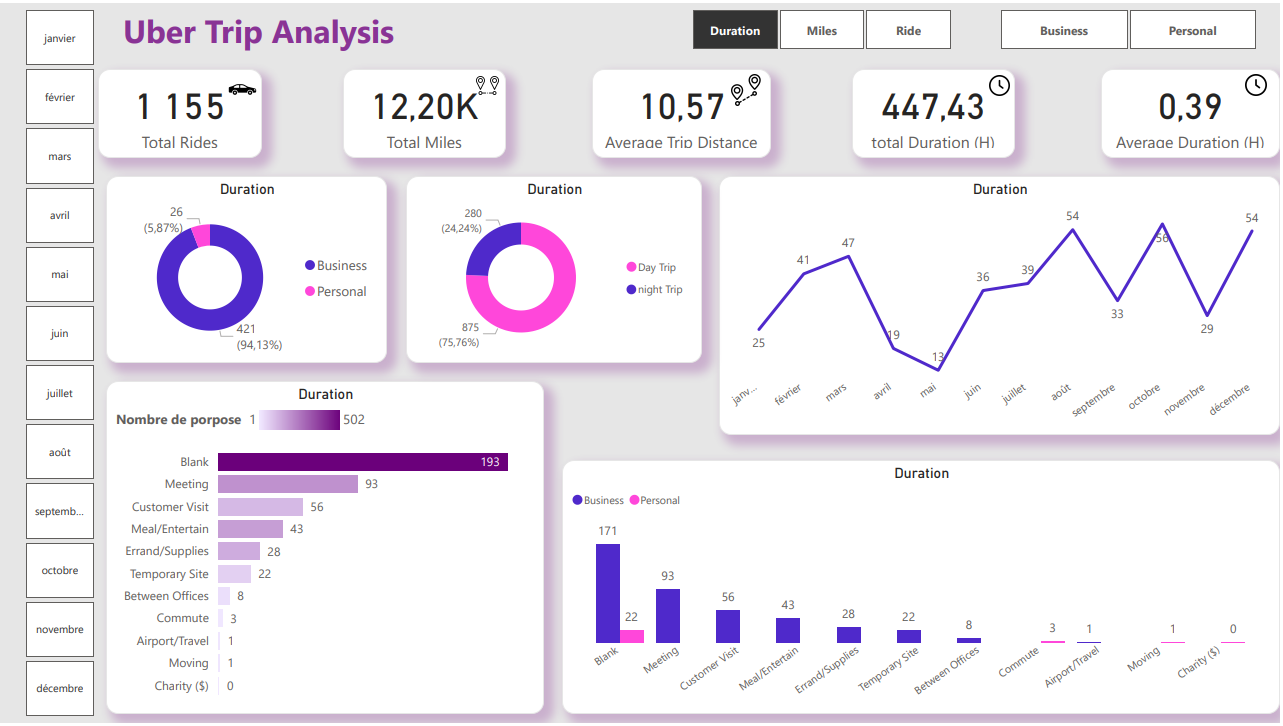

Layout of this report page (visuals, bound fields, positions):
{"tool":"powerbi","page":{"name":"Page 2","canvas":[1280,720],"ordinal":0},"visuals":[{"type":"textbox","box":[117.9,0,325.4,53.2],"z":0},{"type":"card","fields":{"Values":["UberDataset.Total rides"]},"box":[98.4,65.6,163.2,89.6],"z":1000},{"type":"slicer","fields":{"Values":["UberDataset.START_DATE.Variation.Hiérarchie de dates.Mois"]},"box":[0,0,117.7,720],"z":3000},{"type":"slicer","fields":{"Values":["UberDataset.CATEGORY"]},"box":[975.4,0,305,53.2],"z":4000},{"type":"card","fields":{"Values":["UberDataset.Total miles"]},"box":[343.2,65.6,163.2,89.6],"z":5000},{"type":"card","fields":{"Values":["UberDataset.duration average"]},"box":[1101.3,65.6,179.1,89.6],"z":6000},{"type":"card","fields":{"Values":["UberDataset.total duration"]},"box":[852.1,65.6,163.2,89.6],"z":7000},{"type":"card","fields":{"Values":["UberDataset.Average Trip Distance"]},"box":[592.3,65.6,179.1,89.6],"z":8000},{"type":"donutChart","fields":{"Category":["UberDataset.CATEGORY"],"Y":["MesureSelector.MesureDynamique2"]},"box":[105.5,172.9,282,187.1],"z":9000},{"type":"clusteredBarChart","fields":{"Category":["UberDataset.porpose1"],"Y":["MesureSelector.MesureDynamique2"]},"box":[105.5,377.7,438.9,333.4],"z":10000},{"type":"clusteredColumnChart","fields":{"Category":["UberDataset.porpose1"],"Series":["UberDataset.CATEGORY"],"Y":["MesureSelector.MesureDynamique2"]},"box":[562.2,456.7,718.2,254.5],"z":11000},{"type":"lineChart","fields":{"Category":["UberDataset.start_date_only.Variation.Hiérarchie de dates.Mois"],"Y":["MesureSelector.MesureDynamique2"]},"box":[719.1,172.9,561.3,258.9],"z":12000},{"type":"donutChart","fields":{"Category":["UberDataset.Trip_Type"],"Y":["UberDataset.Total rides"]},"box":[406.1,172.9,296.2,187.1],"z":13000},{"type":"slicer","fields":{"Values":["MesureSelector.Mesure"]},"box":[667,0,308,53],"z":14000},{"type":"image","box":[215.5,65.6,53.2,41.7],"z":15000},{"type":"image","box":[469.1,65.6,37.2,33.7],"z":16000},{"type":"image","box":[723,66,48,42],"z":17000},{"type":"image","box":[1240,60,32,44],"z":18000},{"type":"image","box":[984,60,31,44],"z":19000}]}

Visuals, with their boxes in screenshot pixels (x1, y1, x2, y2), scaled from the page's 1280x720 canvas onto the 1283x726 screenshot:
textbox: 118 0 444 54
card - UberDataset.Total rides: 99 66 262 156
slicer - UberDataset.START_DATE.Variation.Hiérarchie de dates.Mois: 0 0 118 725
slicer - UberDataset.CATEGORY: 978 0 1282 54
card - UberDataset.Total miles: 344 66 508 156
card - UberDataset.duration average: 1104 66 1282 156
card - UberDataset.total duration: 854 66 1018 156
card - UberDataset.Average Trip Distance: 594 66 773 156
donutChart - UberDataset.CATEGORY x MesureSelector.MesureDynamique2: 106 174 388 363
clusteredBarChart - UberDataset.porpose1 x MesureSelector.MesureDynamique2: 106 381 546 717
clusteredColumnChart - UberDataset.porpose1 x UberDataset.CATEGORY: 564 461 1282 717
lineChart - UberDataset.start_date_only.Variation.Hiérarchie de dates.Mois x MesureSelector.MesureDynamique2: 721 174 1282 435
donutChart - UberDataset.Trip_Type x UberDataset.Total rides: 407 174 704 363
slicer - MesureSelector.Mesure: 669 0 977 53
image: 216 66 269 108
image: 470 66 507 100
image: 725 67 773 109
image: 1243 60 1275 105
image: 986 60 1017 105
